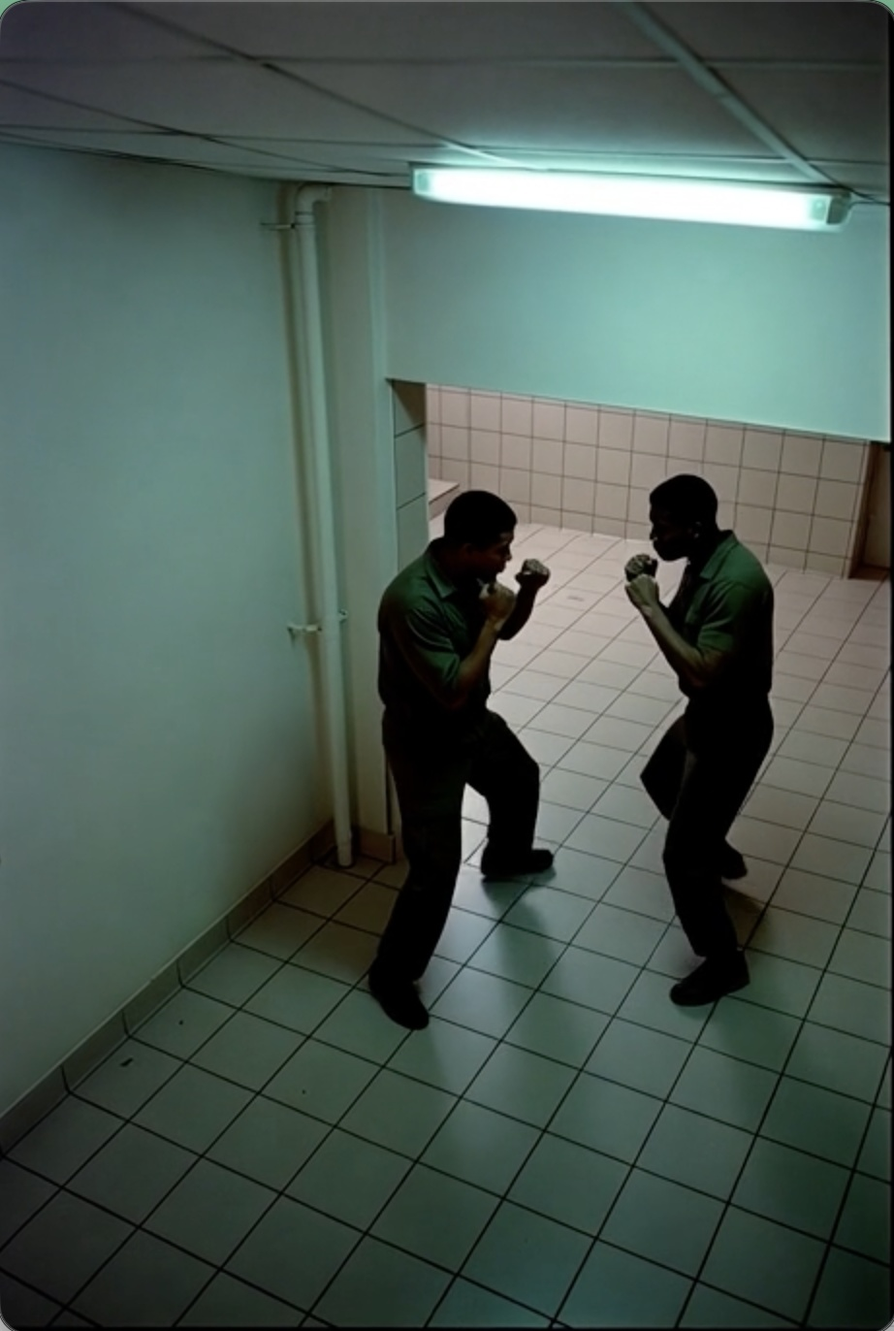Assault: (622, 473, 778, 1009)
Fighting: (367, 489, 557, 1033)
